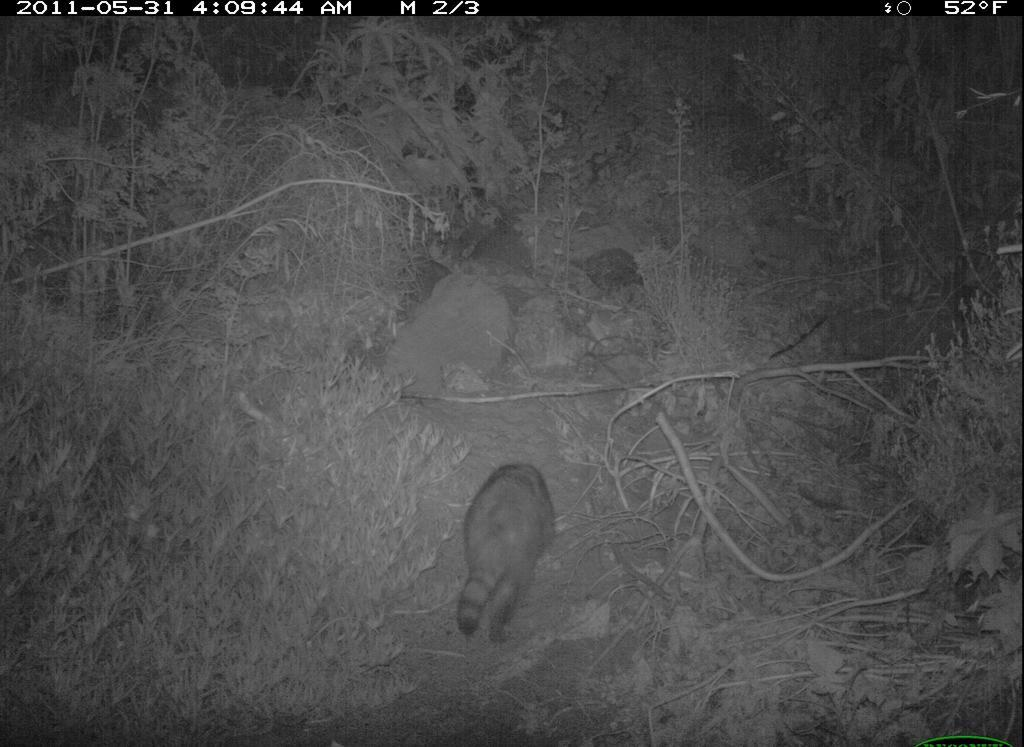raccoon: (441, 447, 570, 662)
